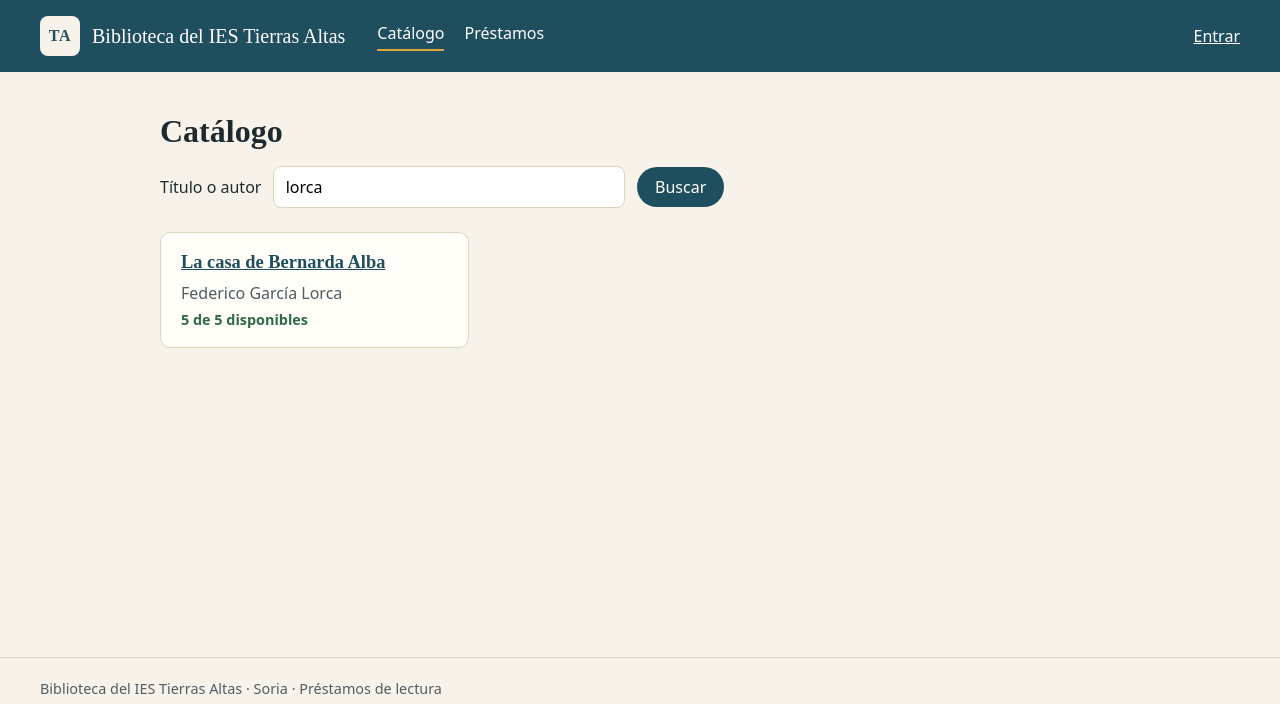
Test: El catálogo › buscar sin texto vuelve al catálogo entero
Check: the link "La casa de Bernarda Alba" is shown, box [181,252,385,272]
Clear the search field labelled "Título o autor" at {"x": 449, "y": 187}, box [273,166,625,208]
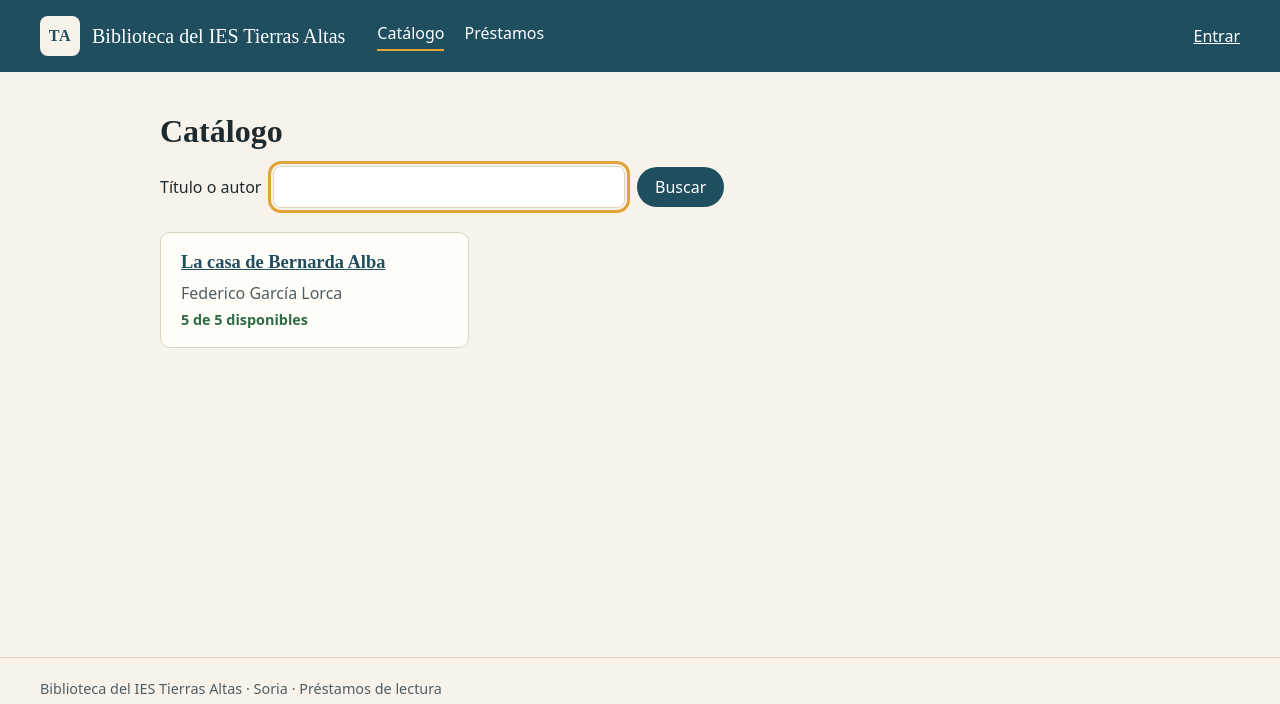
Click the button "Buscar".
click(681, 187)  # box [637,167,724,207]
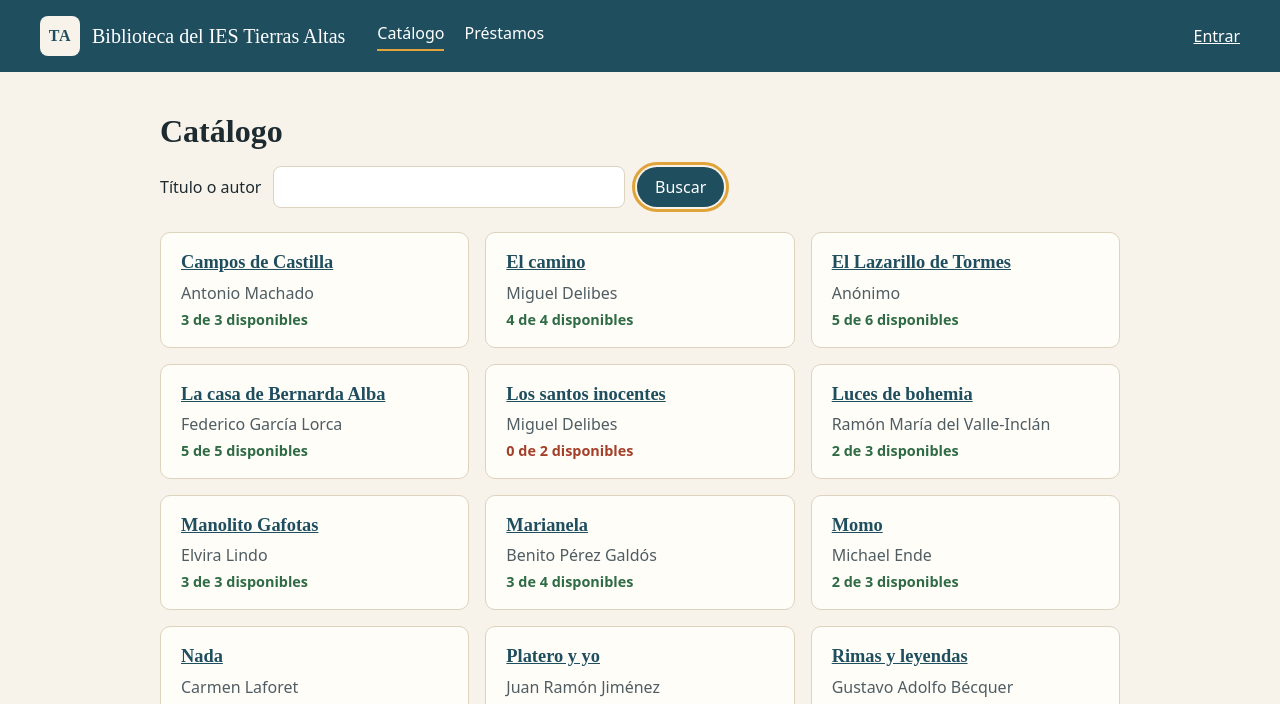
Check: the number of list items is 12
